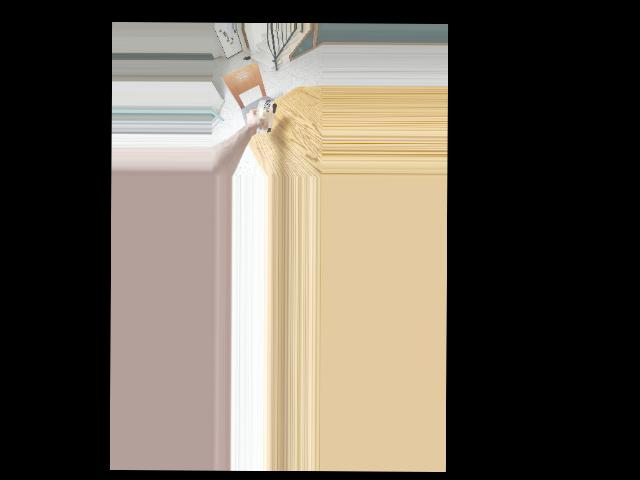cheese: (254, 101, 276, 134)
